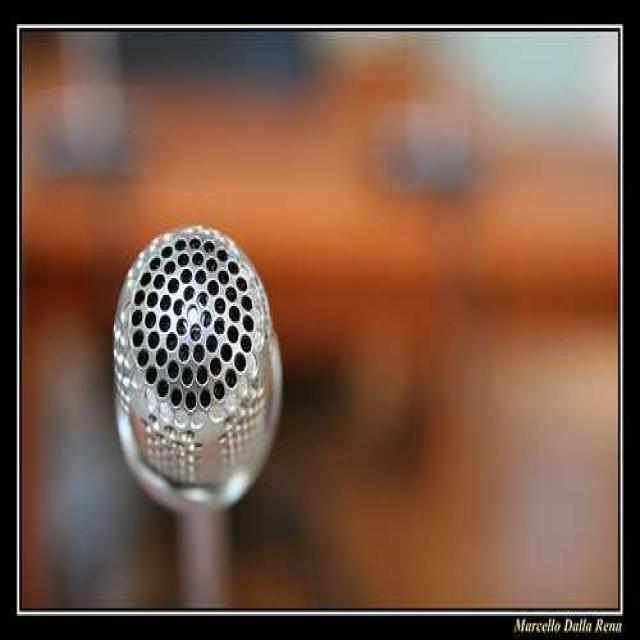microphone: (105, 218, 288, 612)
